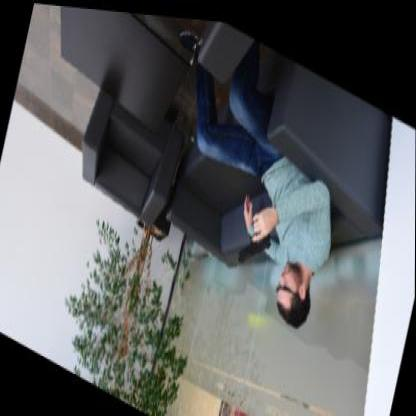pistol: (236, 198, 276, 269)
